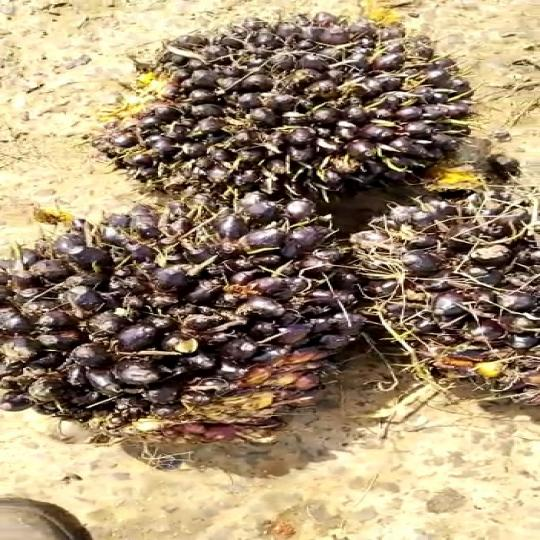mentah: (0, 174, 396, 456), (59, 5, 508, 209), (354, 187, 540, 418)
